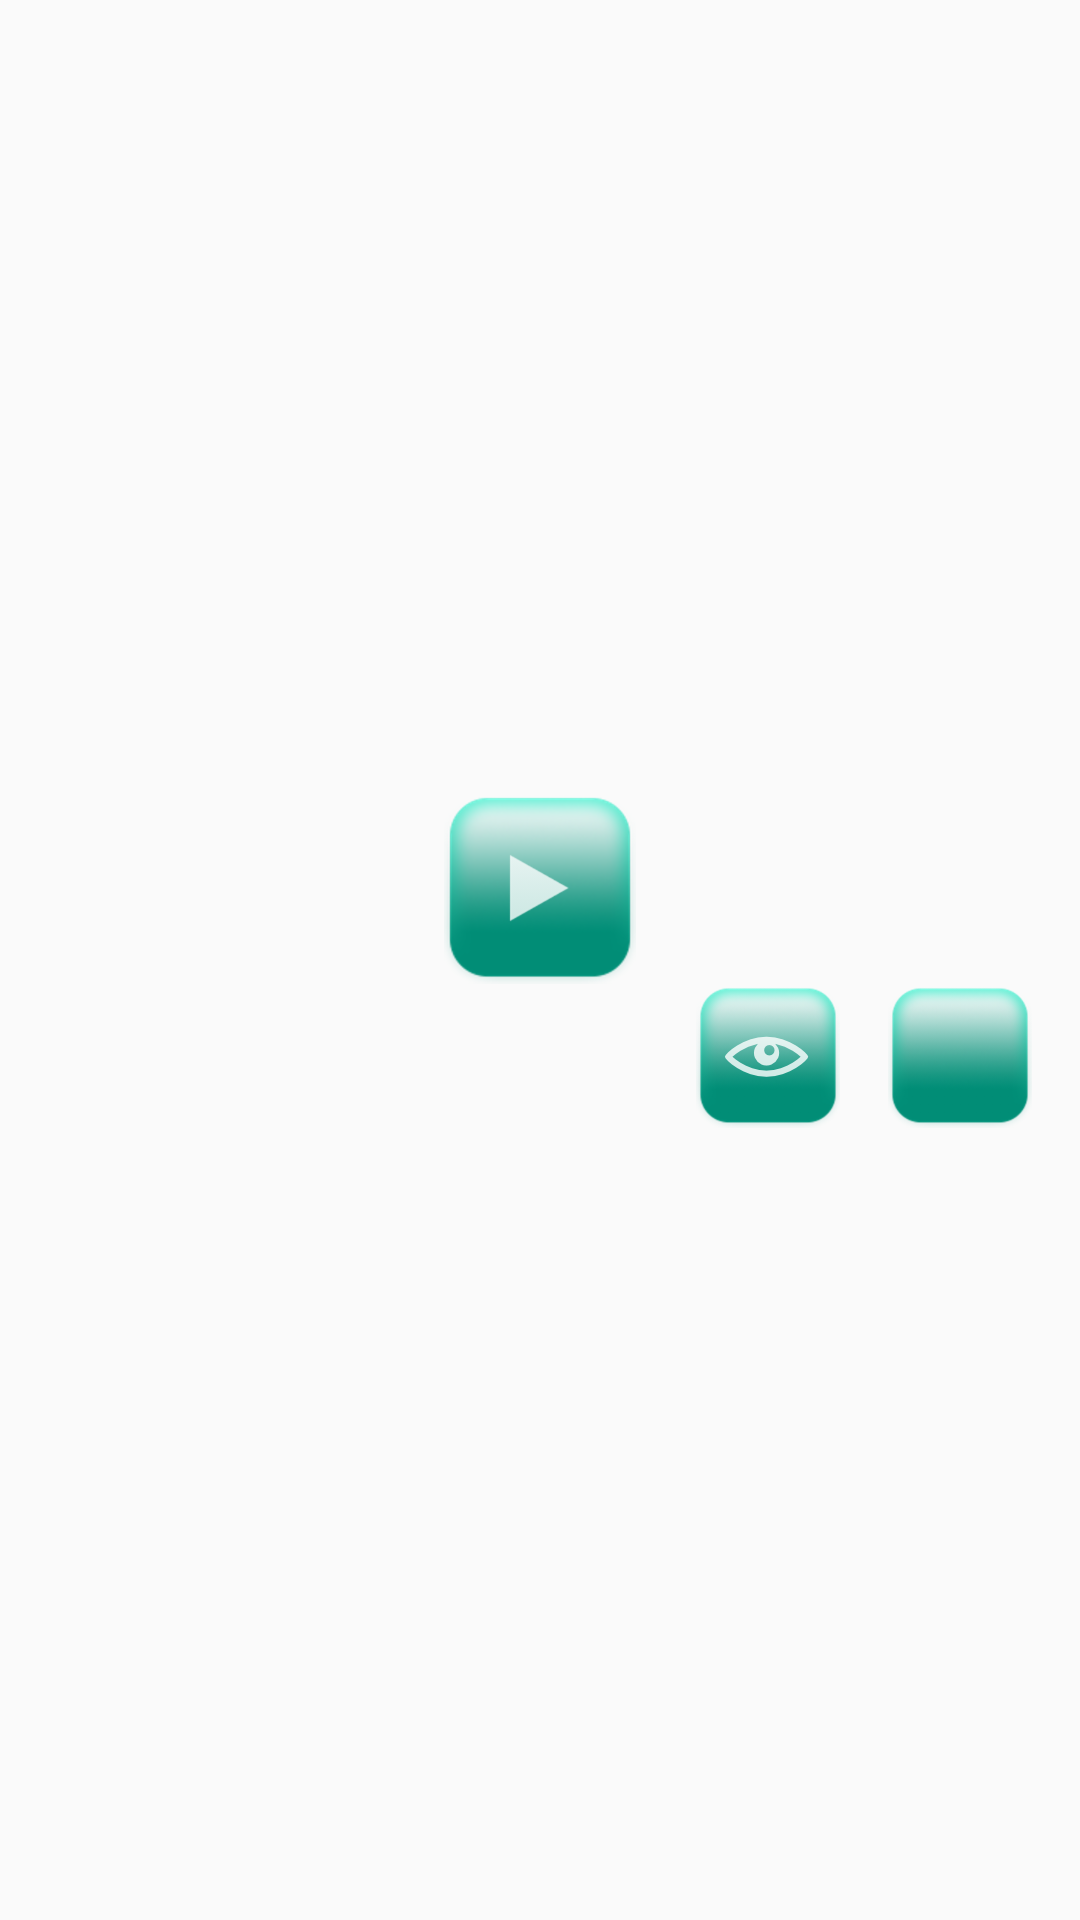

Screen size 1080 × 1920. Icon name, then its center in pixels as [x,y]:
play: [540,888]
